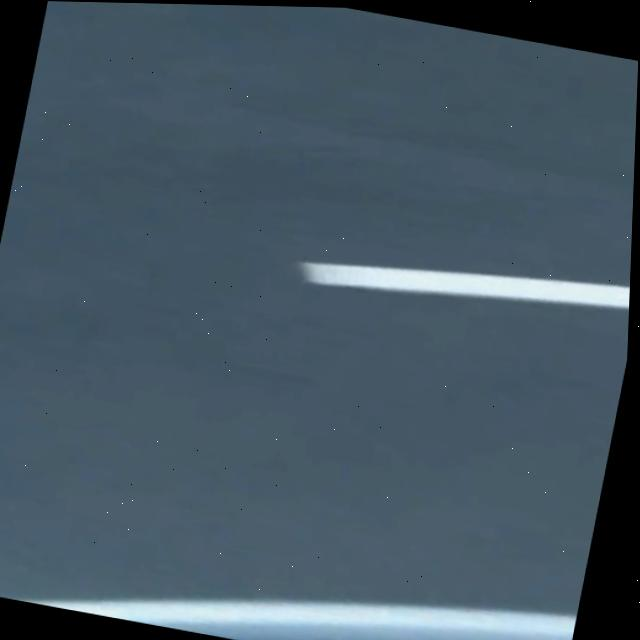center: (301, 264, 630, 310)
left: (19, 600, 577, 640)
